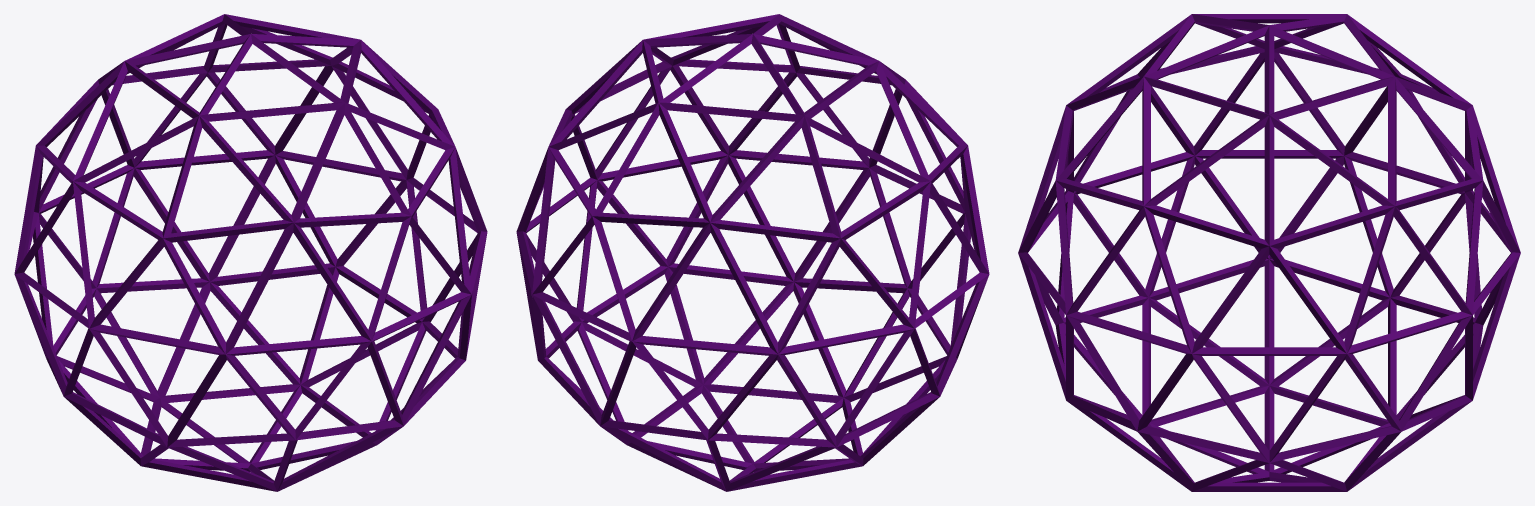
The model's file is OuterWireDodecahedron.obj.
3 views of the same model, side by side, from view 1: azimuth 30°, elevation 25°; view 2: azimuth 150°, elevation 25°; view 3: azimuth 270°, elevation 25° (orthographic). The views are drawn at different scales.
Parts seen in each view (by area): view 1: Icosphere; view 2: Icosphere; view 3: Icosphere.
Boxes of the visible parts, x1,y1,x2,y2 form: Icosphere: (14,14,487,491); Icosphere: (516,14,989,491); Icosphere: (1018,14,1520,491).
Bounding box in the file's own units: 19.4 × 20.4 × 20.4.
